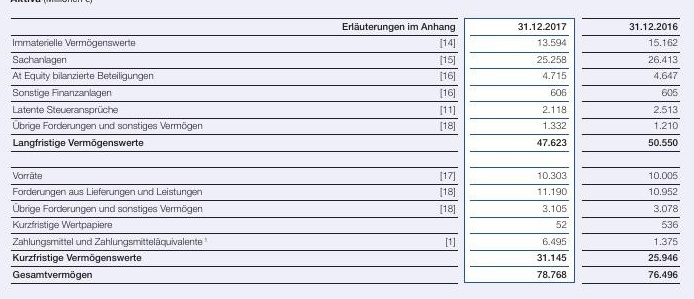table: (0, 0, 694, 299)
